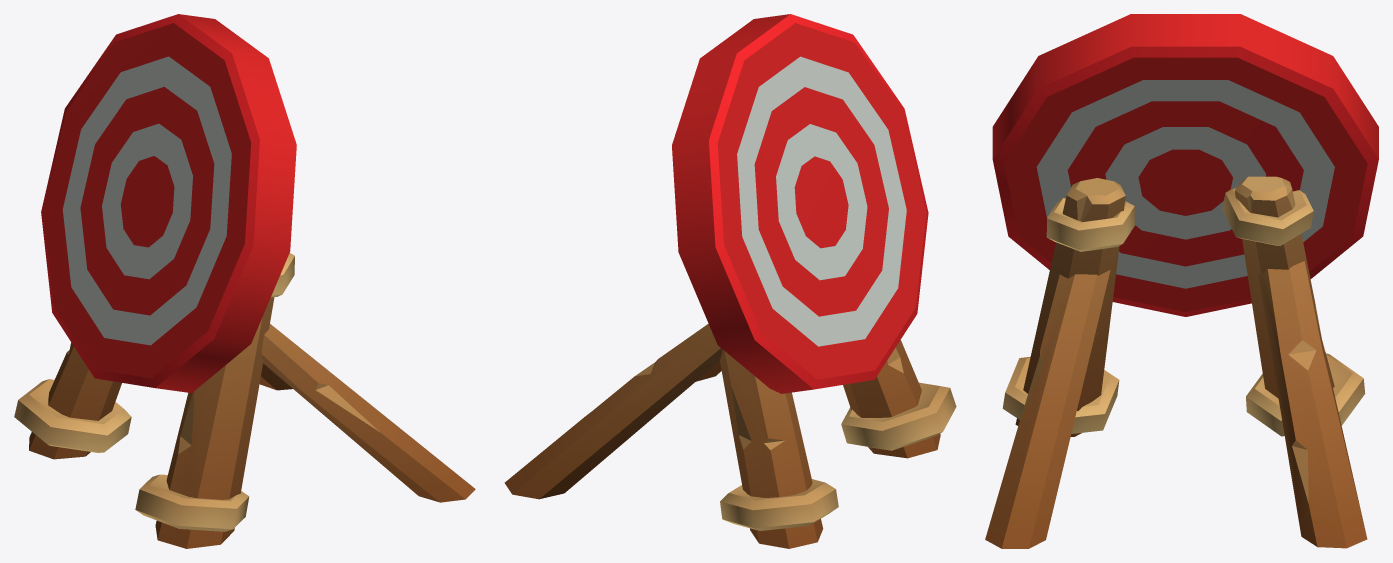
Rendered from PracticeTarget_1_C.glb.
The picture shows the model from 3 angles, left to right: view 1: azimuth 30°, elevation 25°; view 2: azimuth 150°, elevation 25°; view 3: azimuth 270°, elevation 25°; orthographic projection. The views are drawn at different scales.
Parts seen in each view (by area): view 1: PracticeTarget_1_C; view 2: PracticeTarget_1_C; view 3: PracticeTarget_1_C.
Boxes of the visible parts, bbox=[...] form: PracticeTarget_1_C: bbox=[14, 14, 475, 548]; PracticeTarget_1_C: bbox=[504, 14, 956, 548]; PracticeTarget_1_C: bbox=[985, 14, 1378, 548].
Size of the model in its own units: 0.5672 by 0.7701 by 0.6185.
Materials: 1 (1 with a texture image).
